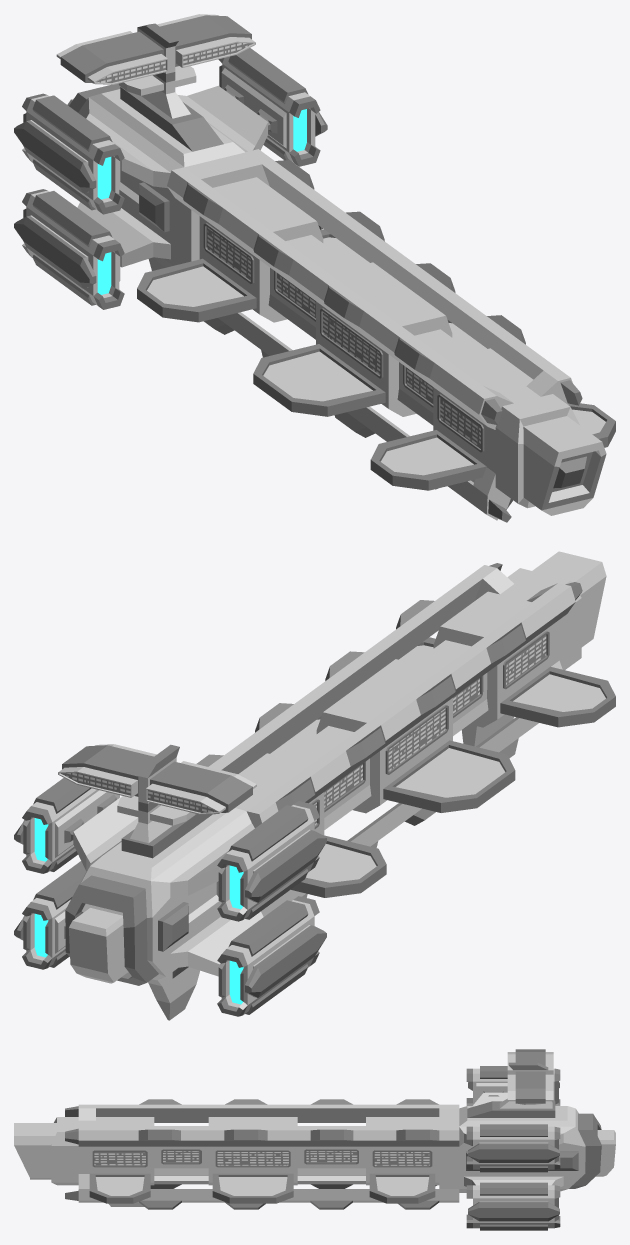
The model's file is hugeFreighter.fbx.
3 views of the same model, one above another, from view 1: azimuth 30°, elevation 25°; view 2: azimuth 150°, elevation 25°; view 3: azimuth 270°, elevation 25° (orthographic). The views are drawn at different scales.
Visible parts, largest first — view 1: BodyA, BodyB, EngineB.002, EngineB.003, BodyWindows, EngineB, EngineA, EngineA.003, EngineA.002; view 2: BodyA, BodyB, EngineB.002, EngineB.003, BodyWindows, EngineB, EngineB.001, EngineA, EngineA.002, EngineA.003, EngineA.001; view 3: BodyA, BodyB, BodyWindows, EngineB.001, EngineB, EngineA, EngineA.001, EngineB.002, EngineA.002.
Boxes of the visible parts, left/top/right/bottom form: BodyA: left=56, top=14, right=606, bottom=520; BodyB: left=60, top=15, right=615, bottom=522; EngineB.002: left=14, top=93, right=124, bottom=214; EngineB.003: left=14, top=189, right=124, bottom=309; BodyWindows: left=96, top=42, right=480, bottom=448; EngineB: left=218, top=48, right=327, bottom=166; EngineA: left=221, top=56, right=315, bottom=162; EngineA.003: left=22, top=190, right=120, bottom=305; EngineA.002: left=22, top=95, right=120, bottom=210; BodyA: left=58, top=551, right=606, bottom=1020; BodyB: left=62, top=563, right=615, bottom=985; EngineB.002: left=217, top=801, right=326, bottom=921; EngineB.003: left=217, top=896, right=326, bottom=1016; BodyWindows: left=61, top=635, right=546, bottom=825; EngineB: left=14, top=778, right=116, bottom=873; EngineB.001: left=14, top=861, right=86, bottom=969; EngineA: left=26, top=788, right=119, bottom=871; EngineA.002: left=221, top=805, right=314, bottom=919; EngineA.003: left=221, top=900, right=314, bottom=1014; EngineA.001: left=26, top=898, right=70, bottom=967; BodyA: left=14, top=1052, right=615, bottom=1206; BodyB: left=65, top=1049, right=601, bottom=1209; BodyWindows: left=94, top=1151, right=430, bottom=1165; EngineB.001: left=466, top=1182, right=560, bottom=1230; EngineB: left=466, top=1124, right=560, bottom=1172; EngineA: left=473, top=1126, right=557, bottom=1169; EngineA.001: left=473, top=1185, right=556, bottom=1228; EngineB.002: left=466, top=1066, right=560, bottom=1105; EngineA.002: left=473, top=1068, right=554, bottom=1104.
Size of what is drawn, in the model's own units: 4272 by 4636 by 15358.
